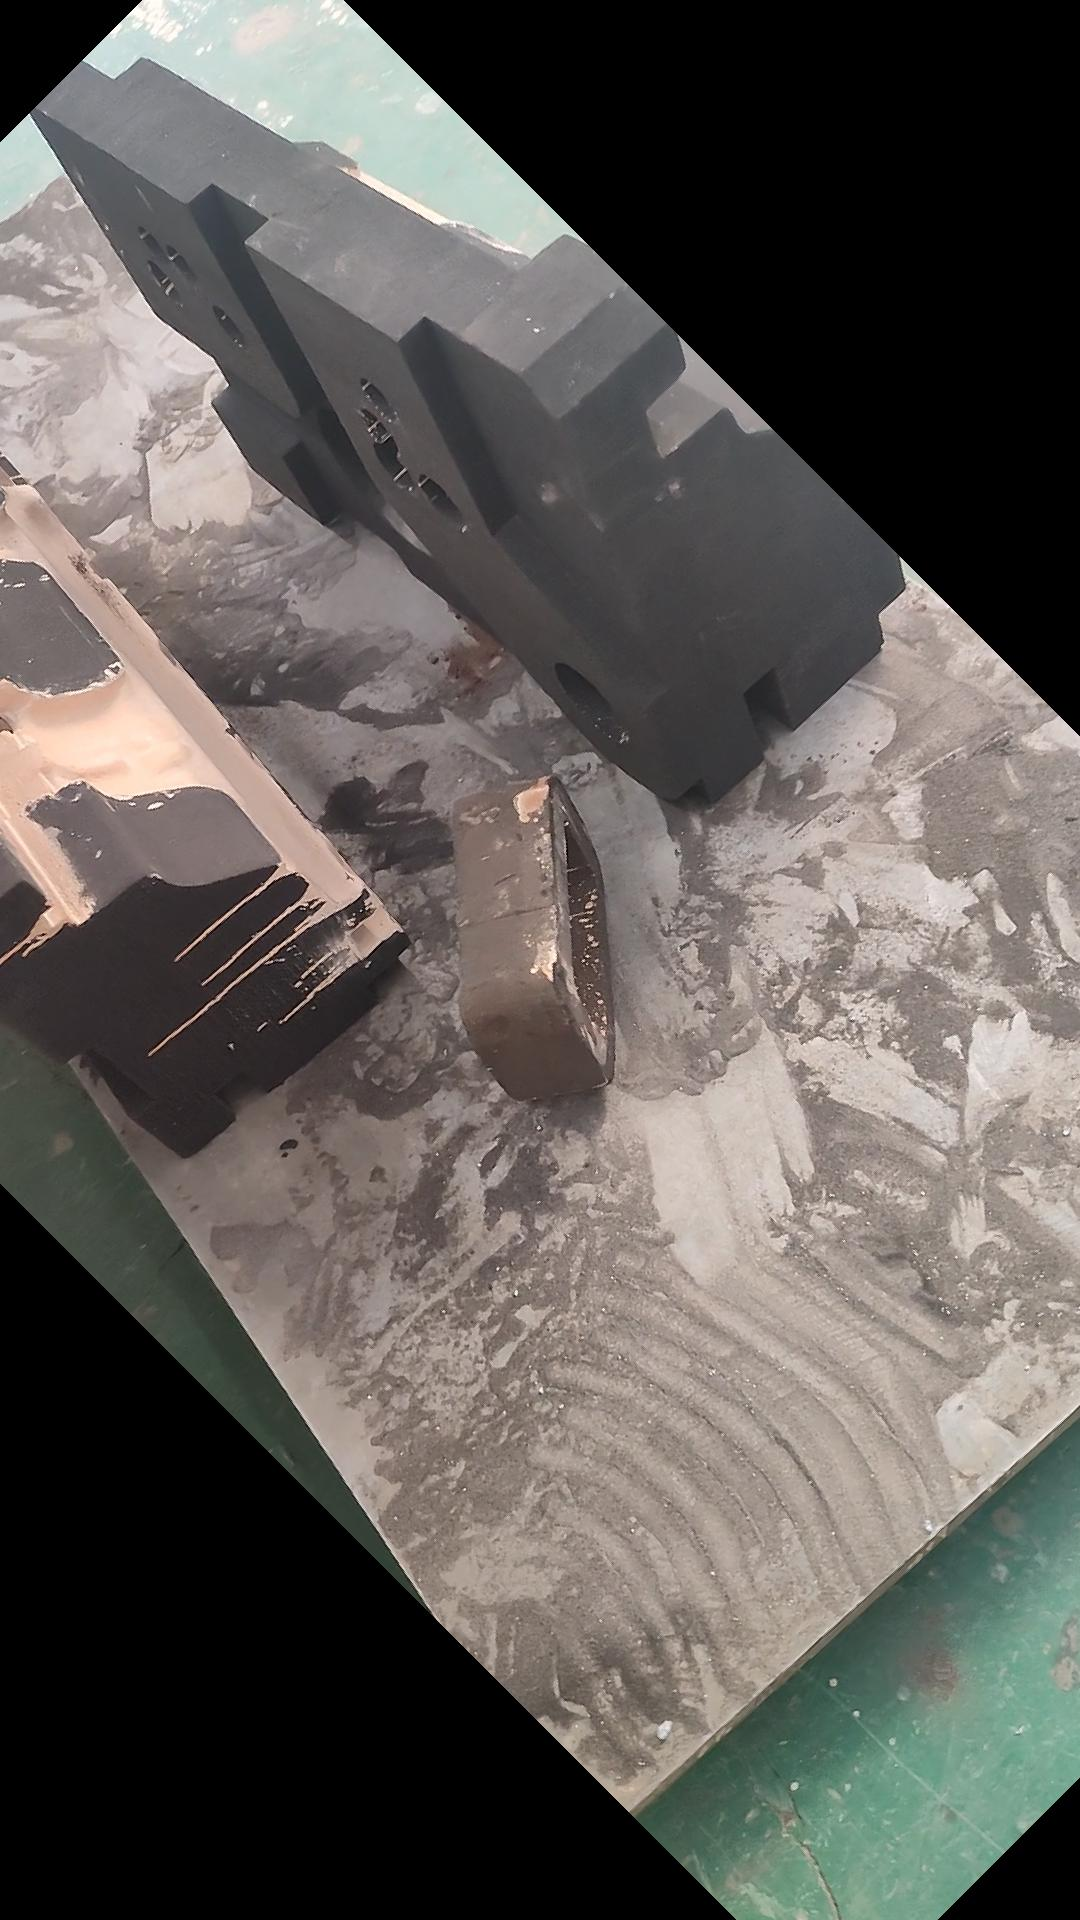pouring hole: (553, 662, 630, 752)
